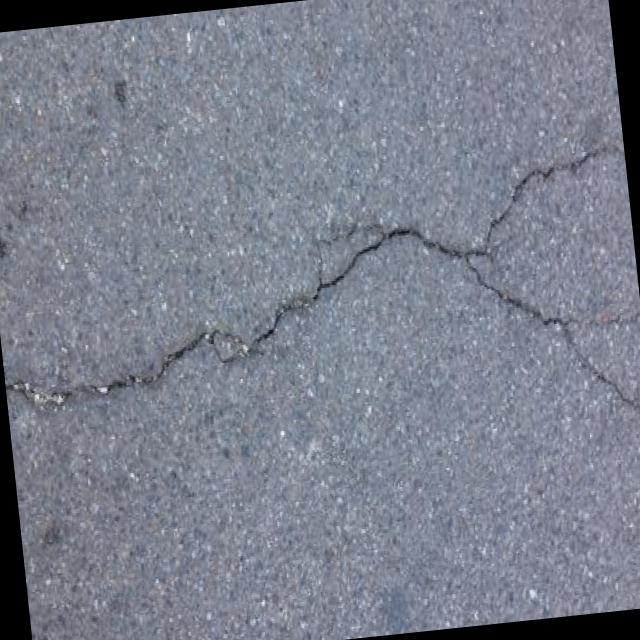Retak-Melintang: (5, 144, 616, 413), (465, 254, 640, 412)
